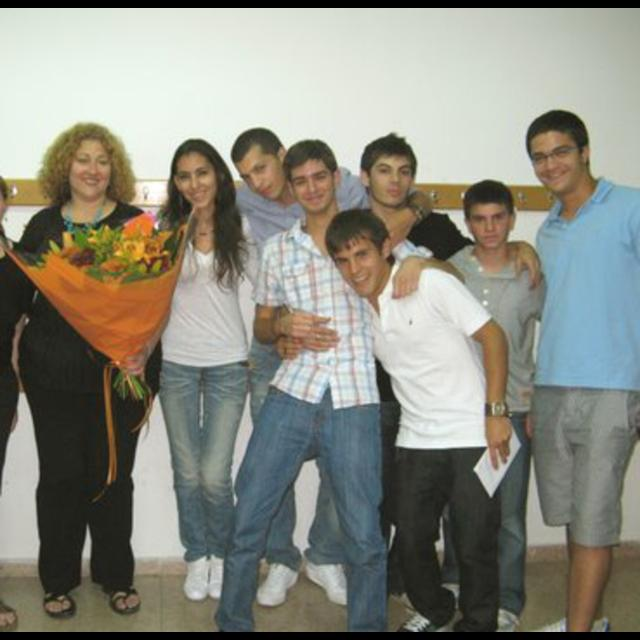Flower: (25, 189, 189, 291)
